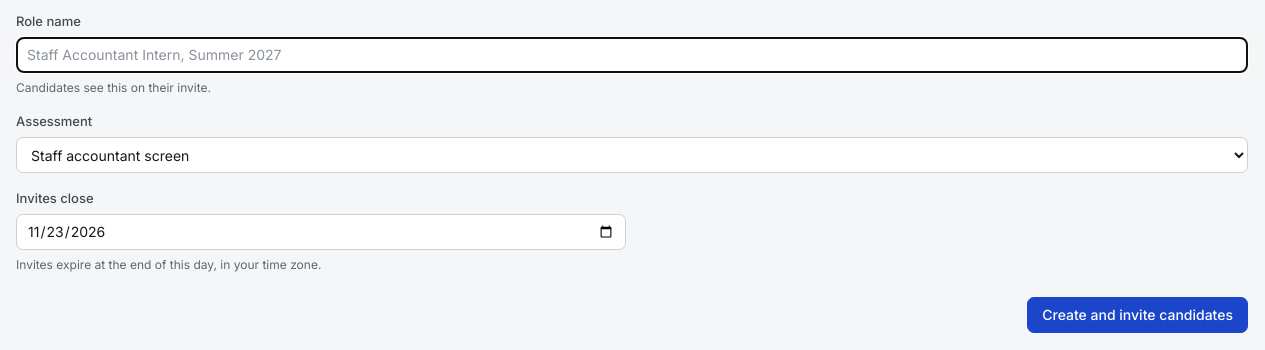
it: CreateJobForm › submits the job, shows Creating… while it runs, then opens the new job's invite page
Type "Audit intern" into the field labelled "Role name" at (632, 55), box [16,37,1248,73]
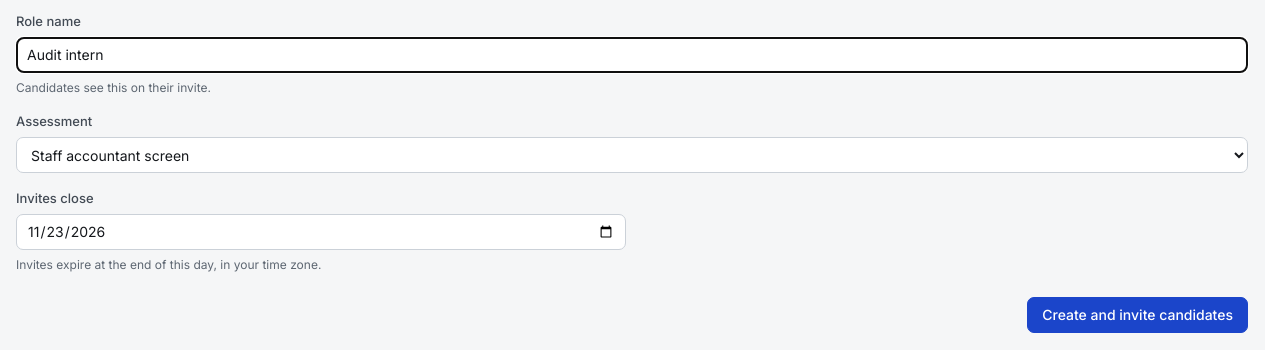
Select "AP clerk screen (Petty cash, 15 min)" in the dropdown labelled "Assessment" at (632, 155), box [16,137,1248,173]
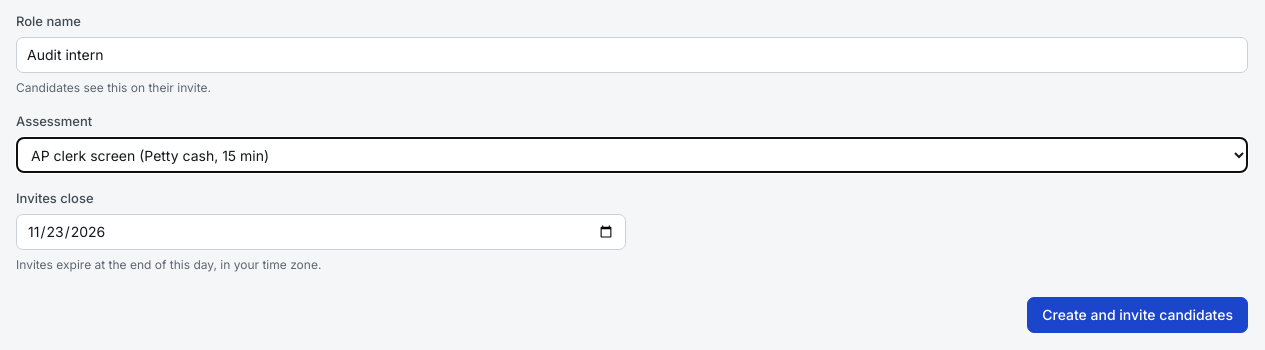
Click the button "Create and invite candidates" at (1138, 315), box [1027,297,1248,333]
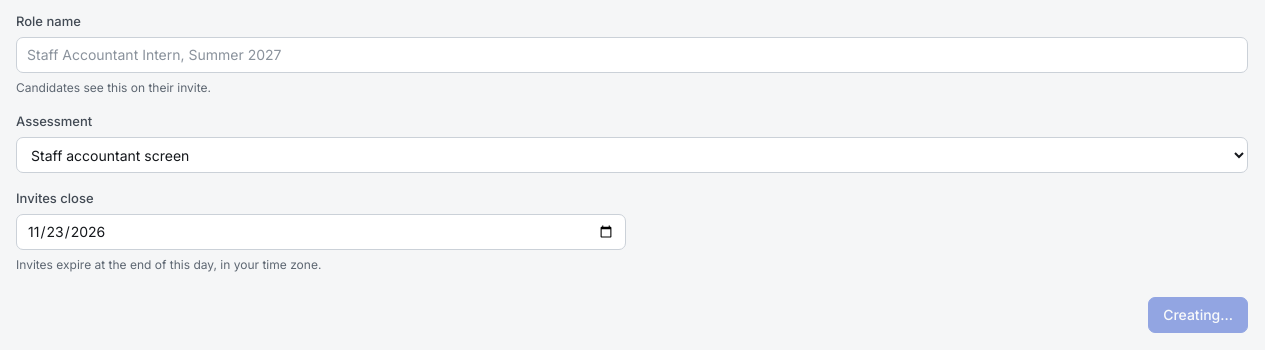
Check: the button "Creating…" is disabled, box [1148,297,1248,333]
